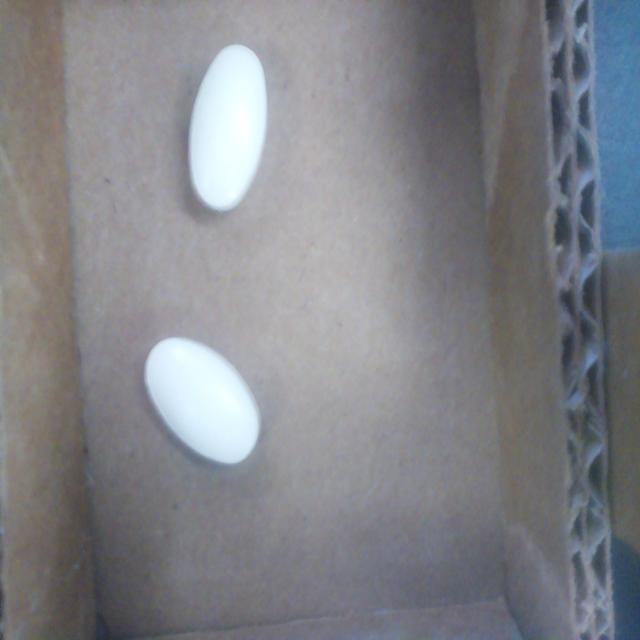pill: (145, 337, 262, 465), (188, 42, 268, 210)
